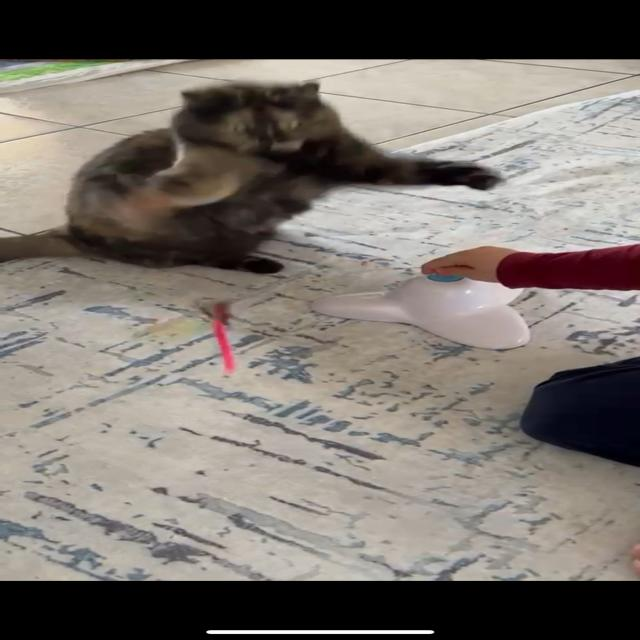authorized: (2, 78, 504, 274)
